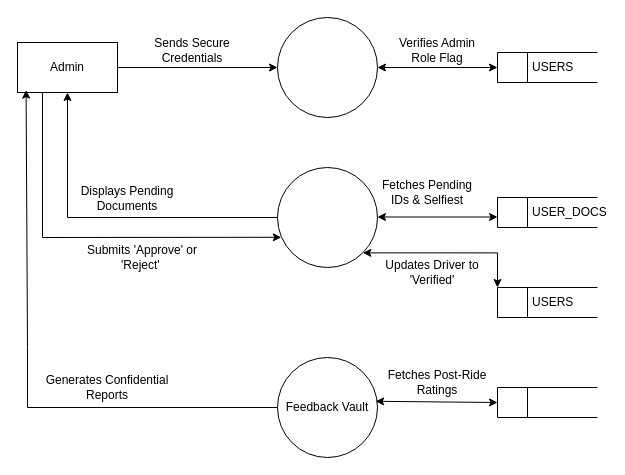
Some shapes in this 625 by 475 pixel diagram are drawn without their labels. Each missing label, with the centre of its shape:
Document Verification: point 327,217
REVIEWS: point 547,402
User Authentication: point 327,67
